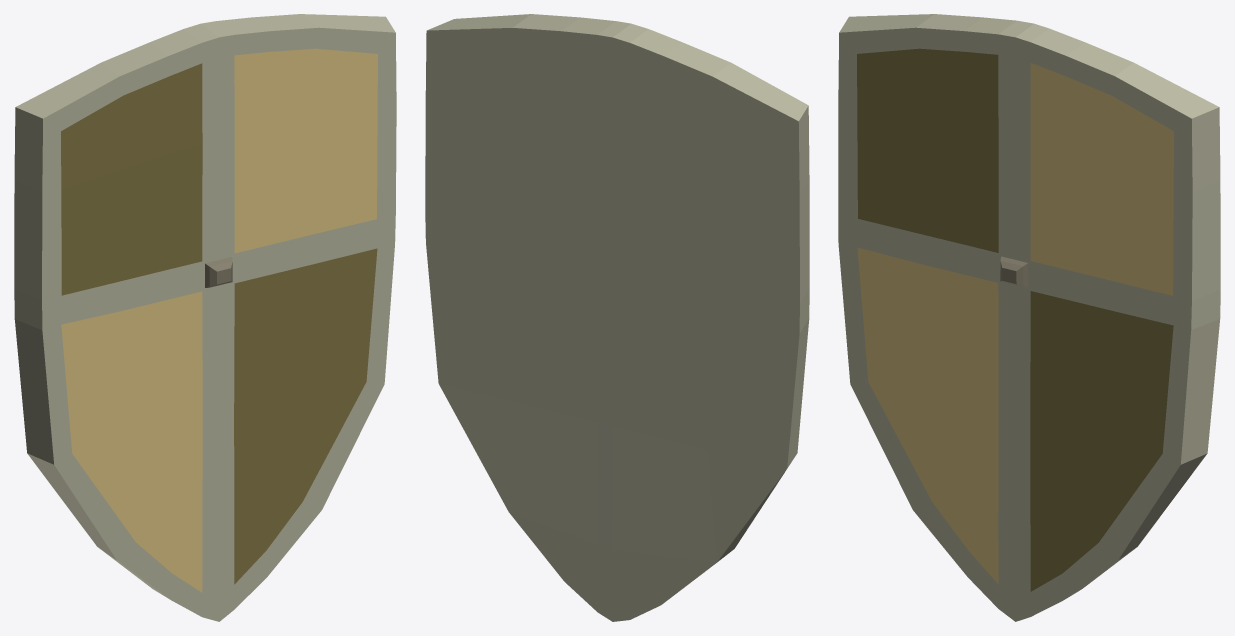
Rendered from Shield_Armor_5_.fbx.
3 renders of one model, left to right at view 1: azimuth 30°, elevation 25°; view 2: azimuth 150°, elevation 25°; view 3: azimuth 330°, elevation 25°, orthographic.
Visible parts, largest first — view 1: Shield 1.004; view 2: Shield 1.004; view 3: Shield 1.004.
Boxes of the visible parts, left/top/right/bottom form: Shield 1.004: left=14, top=14, right=396, bottom=621; Shield 1.004: left=425, top=14, right=809, bottom=621; Shield 1.004: left=838, top=14, right=1220, bottom=621.
Size of the model in its own units: 57.68 by 86.39 by 6.48.
